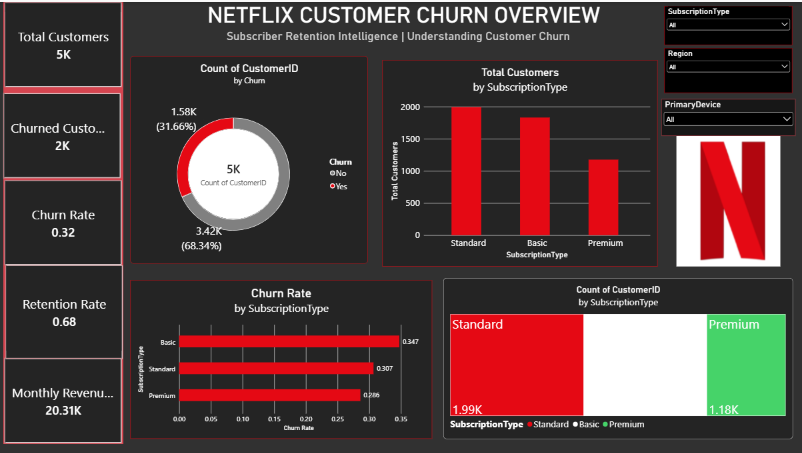

This screenshot's page, from the dashboard's own definition file:
{"tool":"powerbi","page":{"name":"Churn Overview.","canvas":[1920,1080],"ordinal":0},"visuals":[{"type":"textbox","box":[11.3,0,1907.7,130.4],"z":0},{"type":"textbox","title":"NETFLIX CUSTOMER CHURN OVERVIEW","box":[11.9,0,1906.3,64.4],"z":4},{"type":"textbox","title":"Subscriber Retention Intelligence | Understanding Customer Churn","box":[11.9,64.4,1880.1,35.8],"z":5},{"type":"cardVisual","fields":{"Data":["Raw_Data.Total Customers"]},"box":[13.2,0,280.6,203.8],"z":6,"group":"g1"},{"type":"cardVisual","fields":{"Data":["Raw_Data.Churned Customers"]},"box":[10.6,217.1,280.6,203.8],"z":7,"group":"g1"},{"type":"cardVisual","fields":{"Data":["Raw_Data.Churn Rate"]},"box":[13.2,423.5,280.6,203.8],"z":8,"group":"g1"},{"type":"cardVisual","fields":{"Data":["Raw_Data.Retention Rate"]},"box":[14.3,627.4,280.6,225],"z":9,"group":"g1"},{"type":"cardVisual","fields":{"Data":["Raw_Data.Monthly Revenue at Risk"]},"box":[13.2,849.7,280.6,203.8],"z":10,"group":"g1"},{"type":"group","id":"g1","title":"Group 1","box":[10.6,0,284.3,1053.5],"z":11},{"type":"donutChart","fields":{"Category":["Raw_Data.Churn"],"Y":["CountNonNull(Raw_Data.CustomerID)"]},"box":[312.4,129.7,566.5,495],"z":12},{"type":"barChart","fields":{"Category":["Raw_Data.SubscriptionType"],"Y":["Raw_Data.Churn Rate"]},"box":[312.4,664.4,720,378.5],"z":13},{"type":"columnChart","fields":{"Category":["Raw_Data.SubscriptionType"],"Y":["Raw_Data.Total Customers"]},"box":[913.2,137.6,656.5,492.4],"z":14},{"type":"treemap","fields":{"Group":["Raw_Data.SubscriptionType"],"Values":["CountNonNull(Raw_Data.CustomerID)"]},"box":[1058.8,659.1,833.8,383.8],"z":15},{"type":"slicer","fields":{"Values":["Raw_Data.SubscriptionType"]},"box":[1586.6,9.5,305.4,93.1],"z":16},{"type":"slicer","fields":{"Values":["Raw_Data.Region"]},"box":[1586.6,109.8,305.4,107.4],"z":18},{"type":"slicer","fields":{"Values":["Raw_Data.PrimaryDevice"]},"box":[1579.5,231.4,319.7,88.3],"z":19},{"type":"image","box":[1579,319,320,311],"z":20}]}

Visuals, with their boxes in screenshot pixels (x1, y1, x2, y2), scaled from the page's 1920x1080 canvas onto the 802x453 screenshot:
textbox: 5,0,801,55
"NETFLIX CUSTOMER CHURN OVERVIEW" textbox: 5,0,801,27
"Subscriber Retention Intelligence | Understanding Customer Churn" textbox: 5,27,790,42
cardVisual - Raw_Data.Total Customers: 6,0,123,85
cardVisual - Raw_Data.Churned Customers: 4,91,122,177
cardVisual - Raw_Data.Churn Rate: 6,178,123,263
cardVisual - Raw_Data.Retention Rate: 6,263,123,358
cardVisual - Raw_Data.Monthly Revenue at Risk: 6,356,123,442
"Group 1" group: 4,0,123,442
donutChart - Raw_Data.Churn x CountNonNull(Raw_Data.CustomerID): 130,54,367,262
barChart - Raw_Data.SubscriptionType x Raw_Data.Churn Rate: 130,279,431,437
columnChart - Raw_Data.SubscriptionType x Raw_Data.Total Customers: 381,58,656,264
treemap - Raw_Data.SubscriptionType x CountNonNull(Raw_Data.CustomerID): 442,276,791,437
slicer - Raw_Data.SubscriptionType: 663,4,790,43
slicer - Raw_Data.Region: 663,46,790,91
slicer - Raw_Data.PrimaryDevice: 660,97,793,134
image: 660,134,793,264
